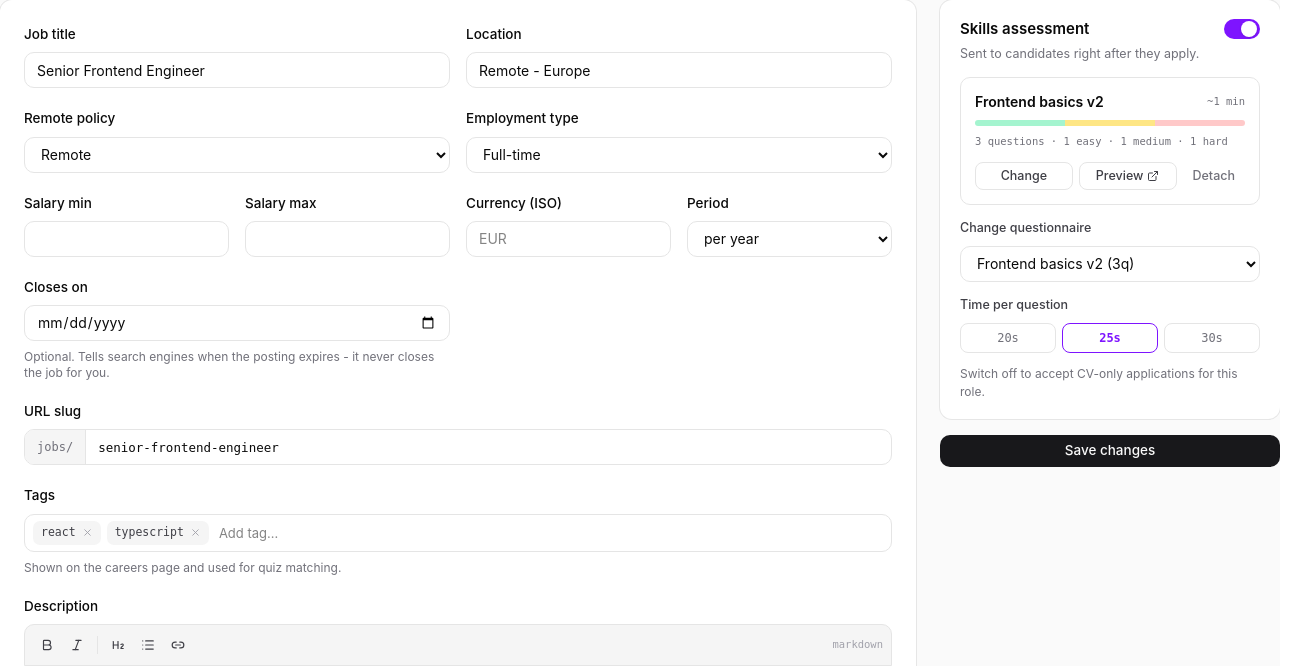
Test case: JobForm › detach clears the attach and brings tag-auto controls back
Click the button "Detach" at (1214, 176), box top-left (1182, 162), bottom-right (1245, 190)
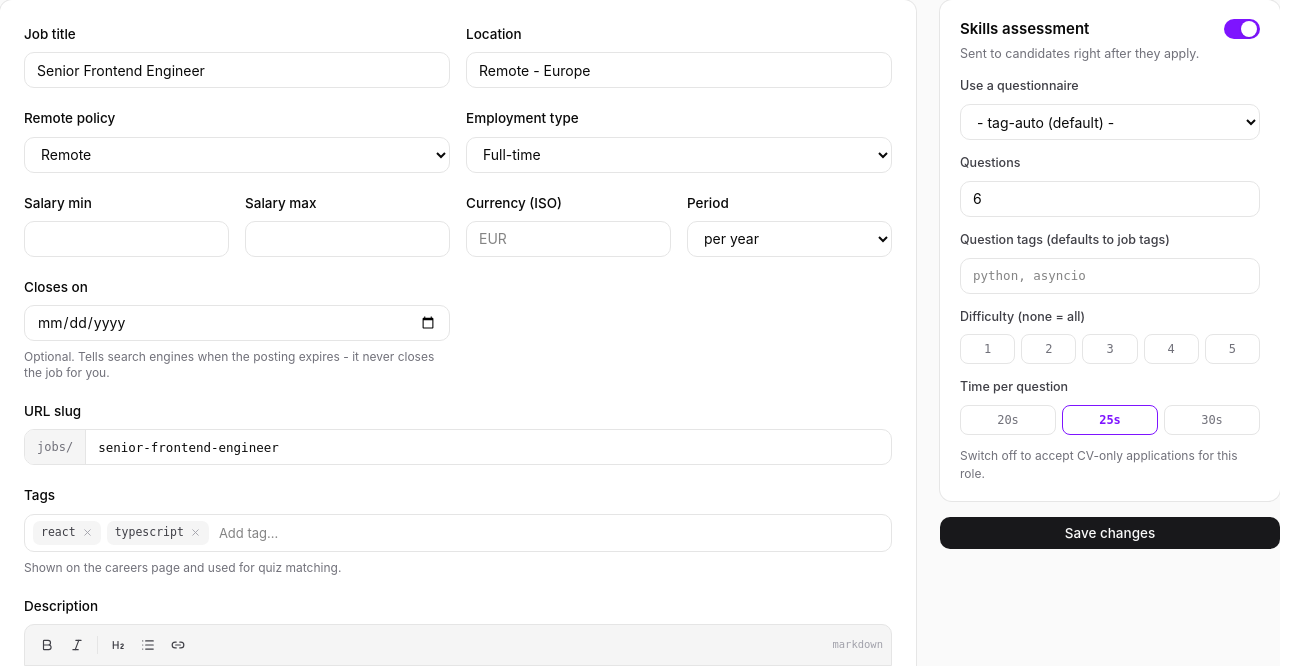
Expected: the number field labelled "Questions" is shown, top-left (960, 181), bottom-right (1260, 217)
Expected: the field labelled "Question tags (defaults to job tags)" is shown, top-left (960, 258), bottom-right (1260, 294)
